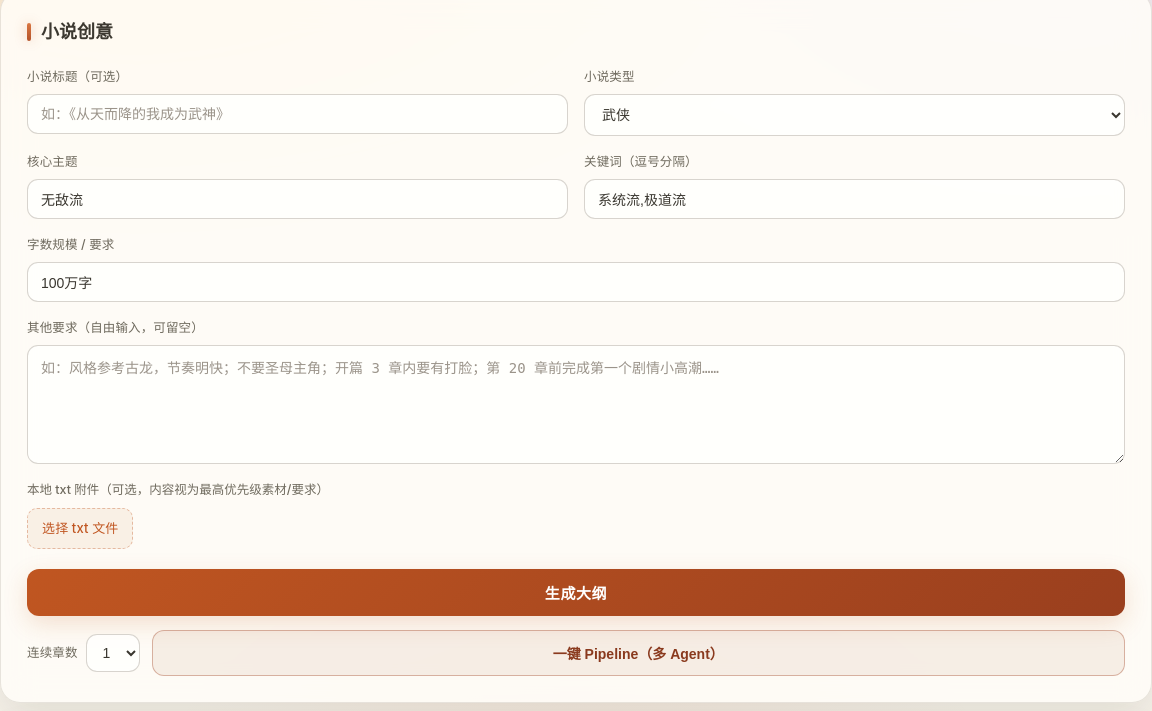
Test: NovelGeneratorView › enables save for demo results
The width and height of the screenshot is (1152, 711).
Click the button with class "generate-btn" at (576, 592), box [27, 569, 1125, 616]
(page scrolled)
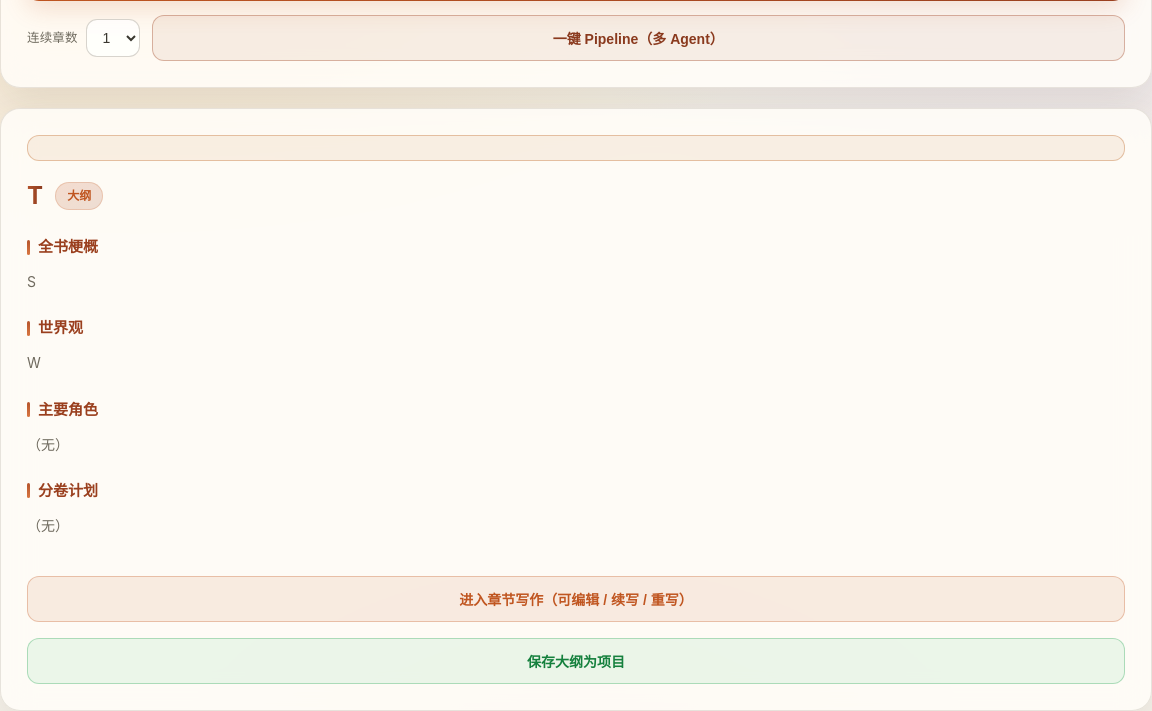
Now the button with class "save-btn" is enabled, box [27, 638, 1125, 684]
